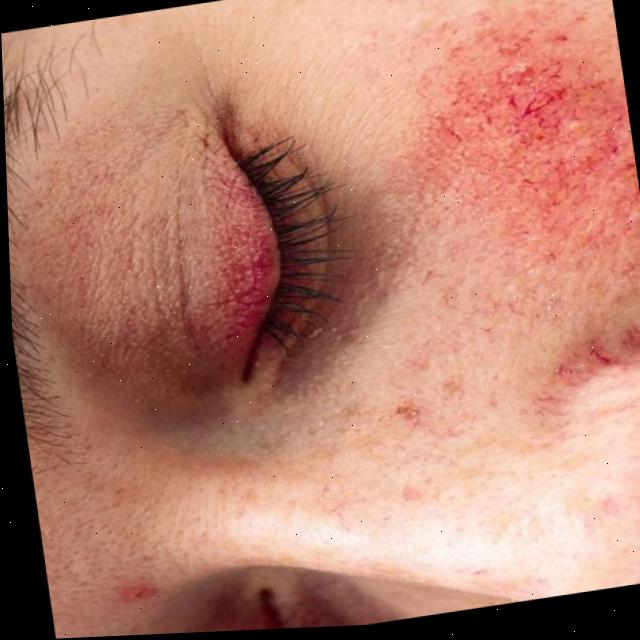Rosacea: (427, 0, 590, 192)
